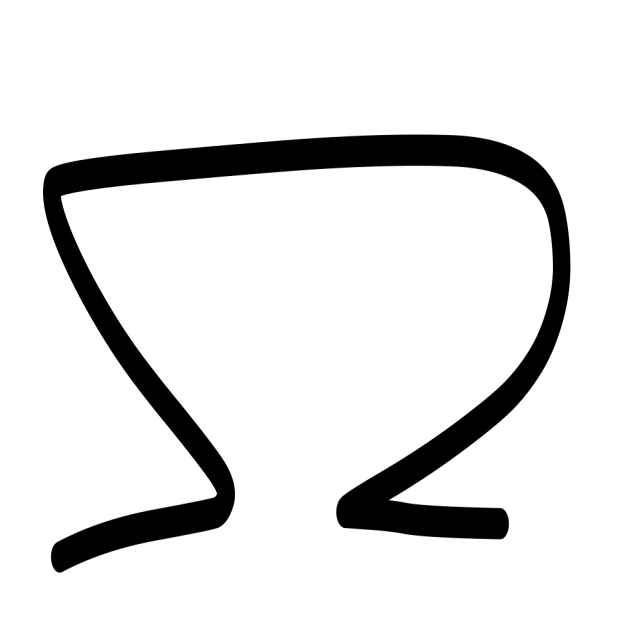ohms: (16, 84, 594, 587)
